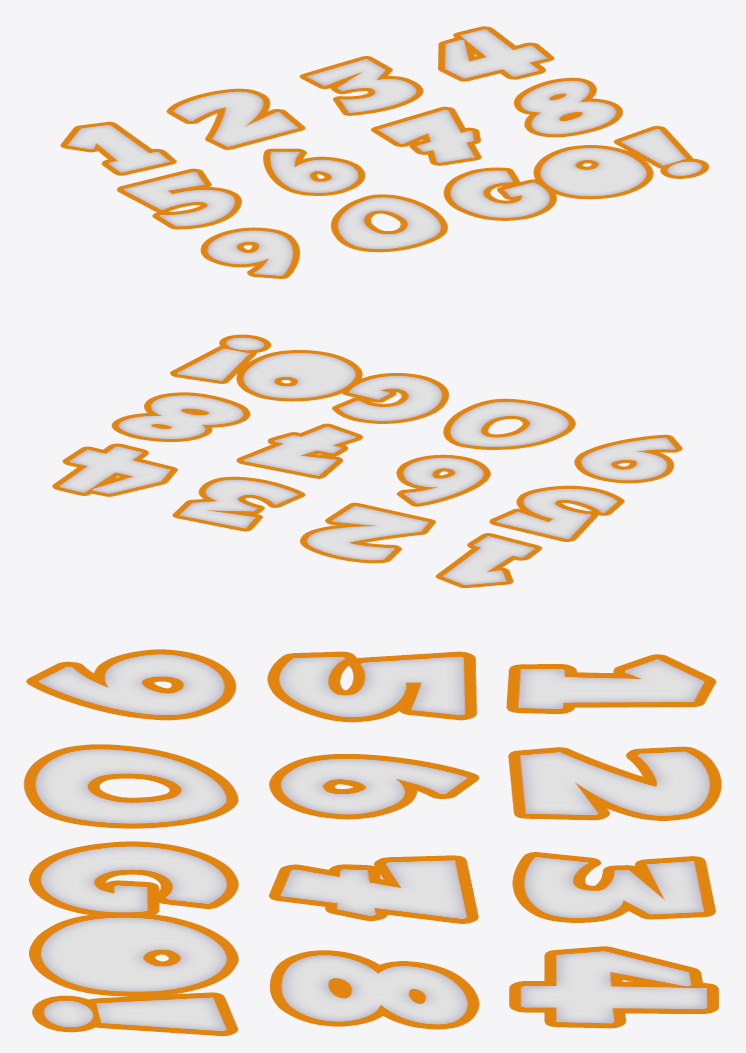
Rendered from CountDown.fbx.
The picture shows the model from 3 angles, top to bottom: view 1: azimuth 30°, elevation 25°; view 2: azimuth 150°, elevation 25°; view 3: azimuth 270°, elevation 25°; orthographic projection. The views are drawn at different scales.
Visible parts, largest first — view 1: Plane_011, Plane_002, Plane_010, Plane_008, Plane_005, Plane_004, Plane_003, Plane_007, Plane_009, Plane_006, Plane_001; view 2: Plane_011, Plane_002, Plane_010, Plane_008, Plane_005, Plane_004, Plane_003, Plane_007, Plane_009, Plane_006, Plane_001; view 3: Plane_011, Plane_002, Plane_010, Plane_008, Plane_005, Plane_004, Plane_003, Plane_007, Plane_009, Plane_006, Plane_001.
Part boxes in pixels (x1=…): Plane_011: x1=443, y1=126, x2=709, y2=220; Plane_002: x1=166, y1=88, x2=305, y2=149; Plane_010: x1=330, y1=194, x2=447, y2=252; Plane_008: x1=513, y1=77, x2=623, y2=137; Plane_005: x1=116, y1=168, x2=241, y2=229; Plane_004: x1=437, y1=26, x2=554, y2=81; Plane_003: x1=299, y1=56, x2=423, y2=115; Plane_007: x1=370, y1=106, x2=481, y2=165; Plane_009: x1=200, y1=227, x2=300, y2=278; Plane_006: x1=263, y1=148, x2=365, y2=195; Plane_001: x1=60, y1=121, x2=176, y2=175; Plane_011: x1=170, y1=334, x2=449, y2=423; Plane_002: x1=300, y1=502, x2=435, y2=563; Plane_010: x1=443, y1=398, x2=575, y2=449; Plane_008: x1=111, y1=392, x2=250, y2=441; Plane_005: x1=489, y1=485, x2=624, y2=541; Plane_004: x1=52, y1=443, x2=177, y2=496; Plane_003: x1=172, y1=476, x2=305, y2=531; Plane_007: x1=236, y1=423, x2=362, y2=478; Plane_009: x1=574, y1=434, x2=682, y2=483; Plane_006: x1=396, y1=454, x2=490, y2=506; Plane_001: x1=435, y1=533, x2=542, y2=588; Plane_011: x1=29, y1=841, x2=238, y2=1036; Plane_002: x1=508, y1=746, x2=721, y2=820; Plane_010: x1=23, y1=744, x2=238, y2=828; Plane_008: x1=269, y1=950, x2=479, y2=1029; Plane_005: x1=267, y1=651, x2=476, y2=722; Plane_004: x1=509, y1=946, x2=718, y2=1028; Plane_003: x1=512, y1=852, x2=715, y2=922; Plane_007: x1=268, y1=855, x2=478, y2=923; Plane_009: x1=26, y1=649, x2=236, y2=720; Plane_006: x1=269, y1=754, x2=479, y2=819; Plane_001: x1=506, y1=654, x2=716, y2=714.
Size of the model in its own units: 2 by 8.15e-08 by 1.5.
